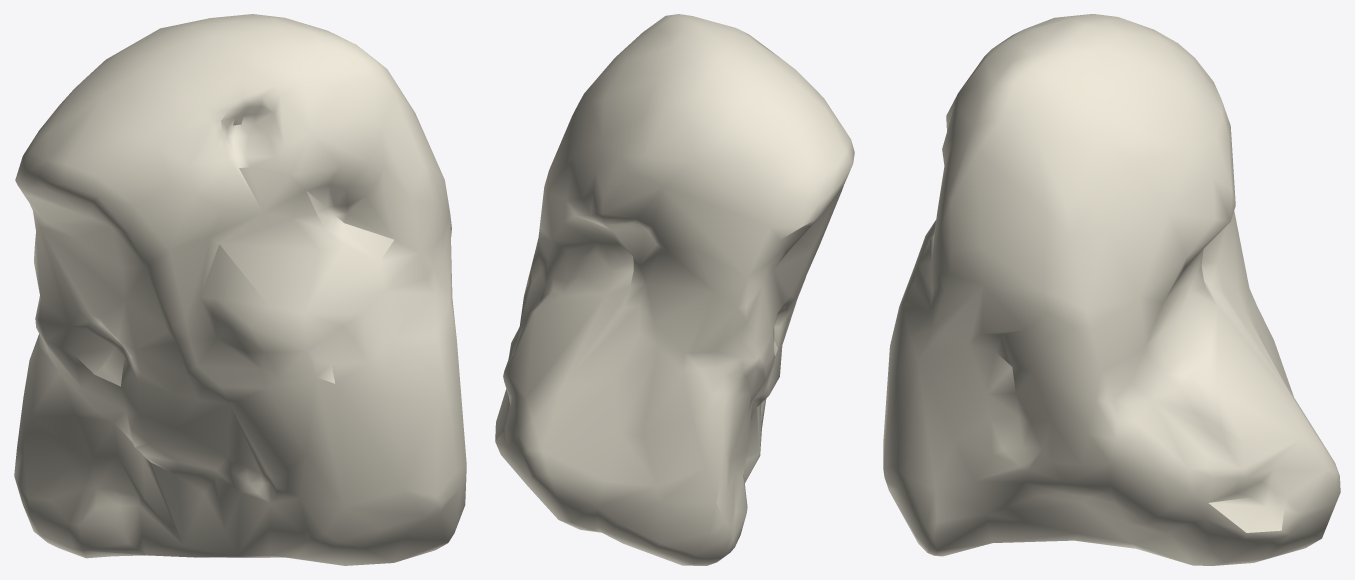
The model's file is fma24447.glb.
3 renders of one model, left to right at view 1: azimuth 30°, elevation 25°; view 2: azimuth 150°, elevation 25°; view 3: azimuth 270°, elevation 25°, orthographic. The views are drawn at different scales.
Parts seen in each view (by area): view 1: FMA24447; view 2: FMA24447; view 3: FMA24447.
Part boxes in pixels (x1=…): FMA24447: x1=14, y1=14, x2=466, y2=565; FMA24447: x1=495, y1=14, x2=854, y2=565; FMA24447: x1=883, y1=14, x2=1340, y2=565.
Bounding box in the file's own units: 0.0162 × 0.0227 × 0.0176.
